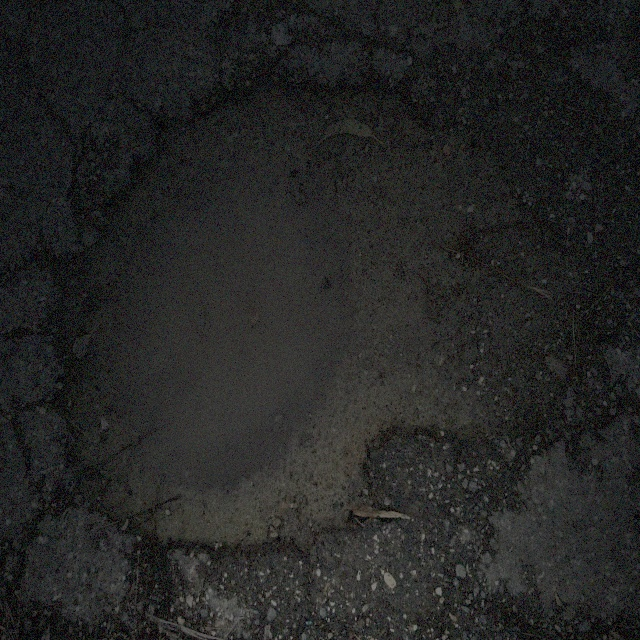pothole: (41, 54, 599, 566)
